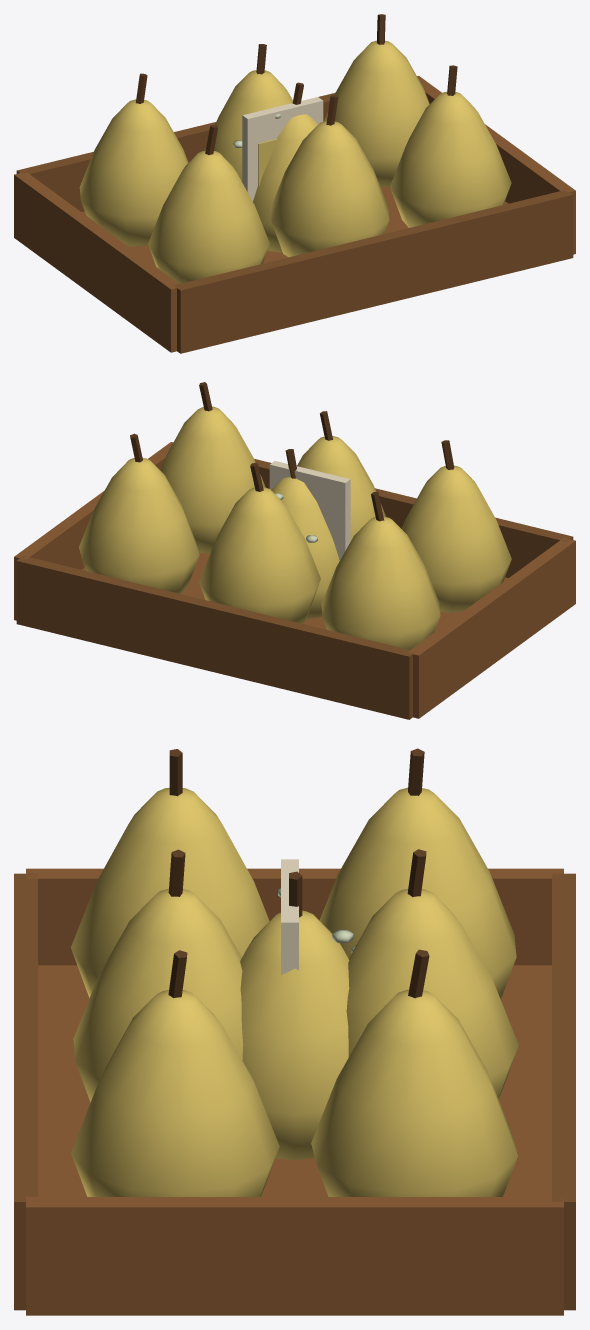
The model's file is Fruit_Pear.fbx.
3 views of the same model, one above another, from view 1: azimuth 30°, elevation 25°; view 2: azimuth 150°, elevation 25°; view 3: azimuth 270°, elevation 25° (orthographic). The views are drawn at different scales.
Parts seen in each view (by area): view 1: Fruit_Pear__Stack, Fruit_Pear__Seed, Fruit_Pear; view 2: Fruit_Pear__Stack, Fruit_Pear, Fruit_Pear__Seed; view 3: Fruit_Pear__Stack, Fruit_Pear, Fruit_Pear__Seed.
Part boxes in pixels (box(x1,y1,x2,y2)): Fruit_Pear__Stack: box(14, 14, 575, 353); Fruit_Pear__Seed: box(242, 97, 323, 201); Fruit_Pear: box(242, 82, 317, 252); Fruit_Pear__Stack: box(14, 382, 575, 719); Fruit_Pear: box(271, 449, 339, 618); Fruit_Pear__Seed: box(269, 461, 350, 560); Fruit_Pear__Stack: box(14, 748, 575, 1315); Fruit_Pear: box(240, 871, 349, 1160); Fruit_Pear__Seed: box(281, 859, 298, 974).
Size of the model in its own units: 0.268 by 0.11 by 0.188.
